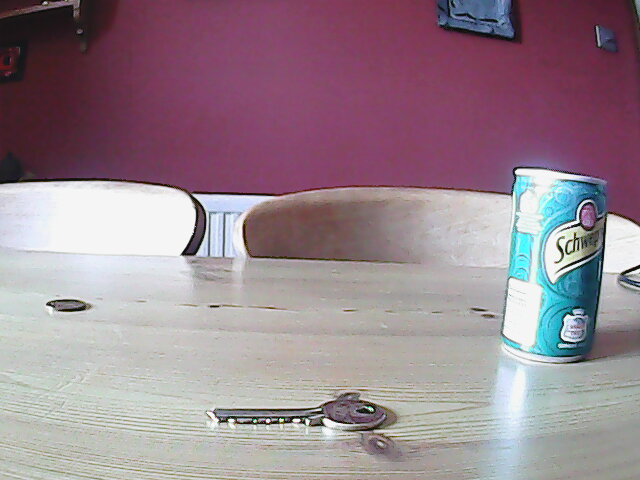Can: (499, 162, 611, 373)
Coin: (42, 295, 88, 315)
Key: (204, 396, 391, 433)
